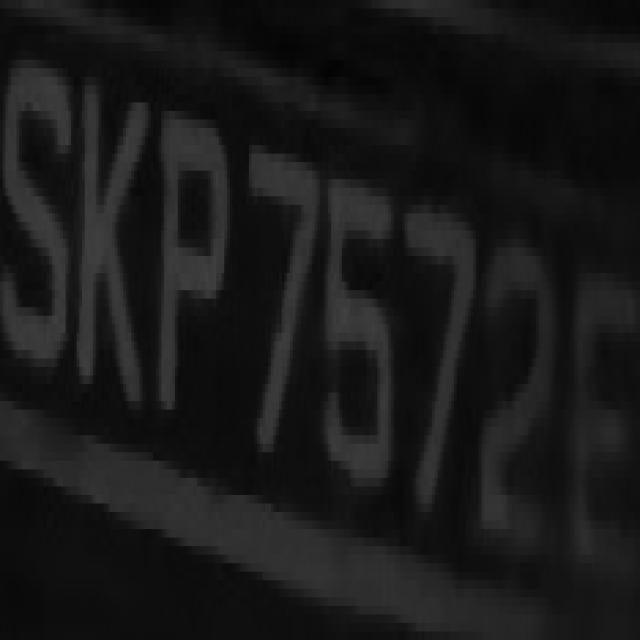2: (478, 214, 560, 580)
5: (323, 128, 394, 529)
7: (235, 94, 317, 469), (399, 145, 476, 529)
E: (560, 239, 634, 597)
K: (77, 51, 145, 452)
P: (145, 77, 232, 461)
S: (5, 34, 80, 401)
